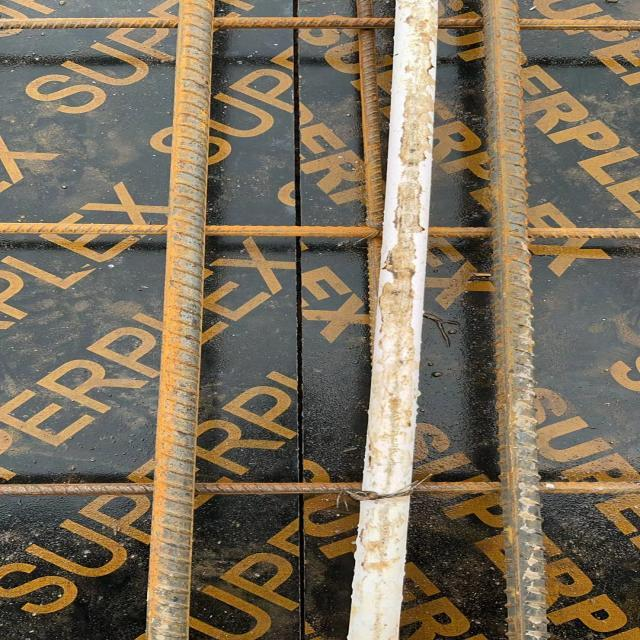ribbed bar: (140, 0, 214, 639), (480, 0, 550, 639), (0, 222, 639, 240), (0, 481, 639, 495), (0, 17, 639, 30), (357, 0, 383, 303)
